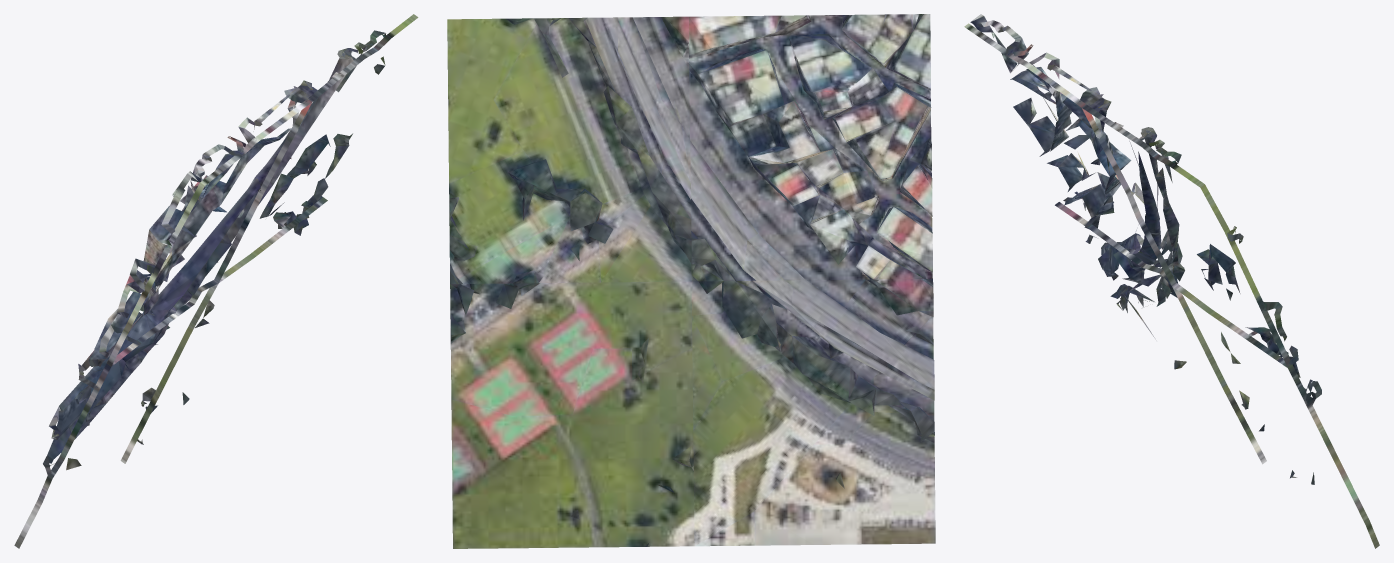
The picture shows the model from 3 angles, left to right: view 1: azimuth 30°, elevation 25°; view 2: azimuth 150°, elevation 25°; view 3: azimuth 270°, elevation 25°; orthographic projection. The views are drawn at different scales.
Bounding box in the file's own units: 306 × 284 × 257.
Materials: 2 (2 with a texture image).
